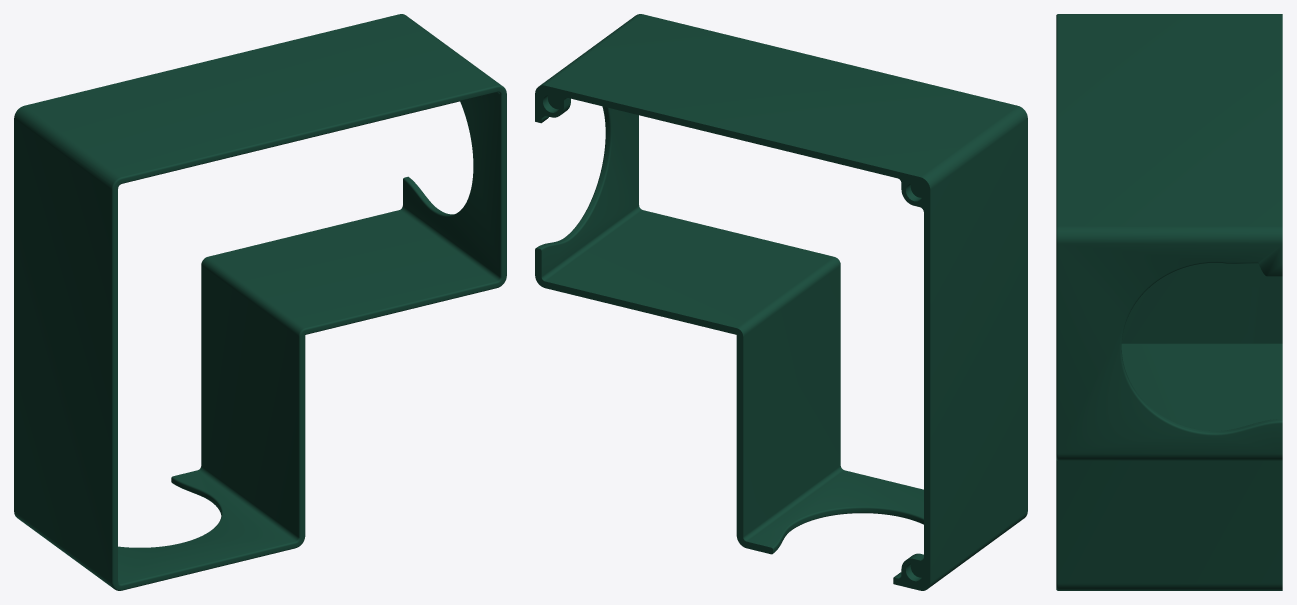
The model's file is LHB.glb.
3 renders of one model, left to right at view 1: azimuth 30°, elevation 25°; view 2: azimuth 150°, elevation 25°; view 3: azimuth 270°, elevation 25°, orthographic. The views are drawn at different scales.
Parts seen in each view (by area): view 1: LHB_PineGreen; view 2: LHB_PineGreen; view 3: LHB_PineGreen.
Boxes of the visible parts, left/top/right/bottom form: LHB_PineGreen: left=14, top=14, right=506, bottom=590; LHB_PineGreen: left=535, top=14, right=1027, bottom=590; LHB_PineGreen: left=1056, top=14, right=1282, bottom=590.
Size of the model in its own units: 196 by 196 by 84.4.
